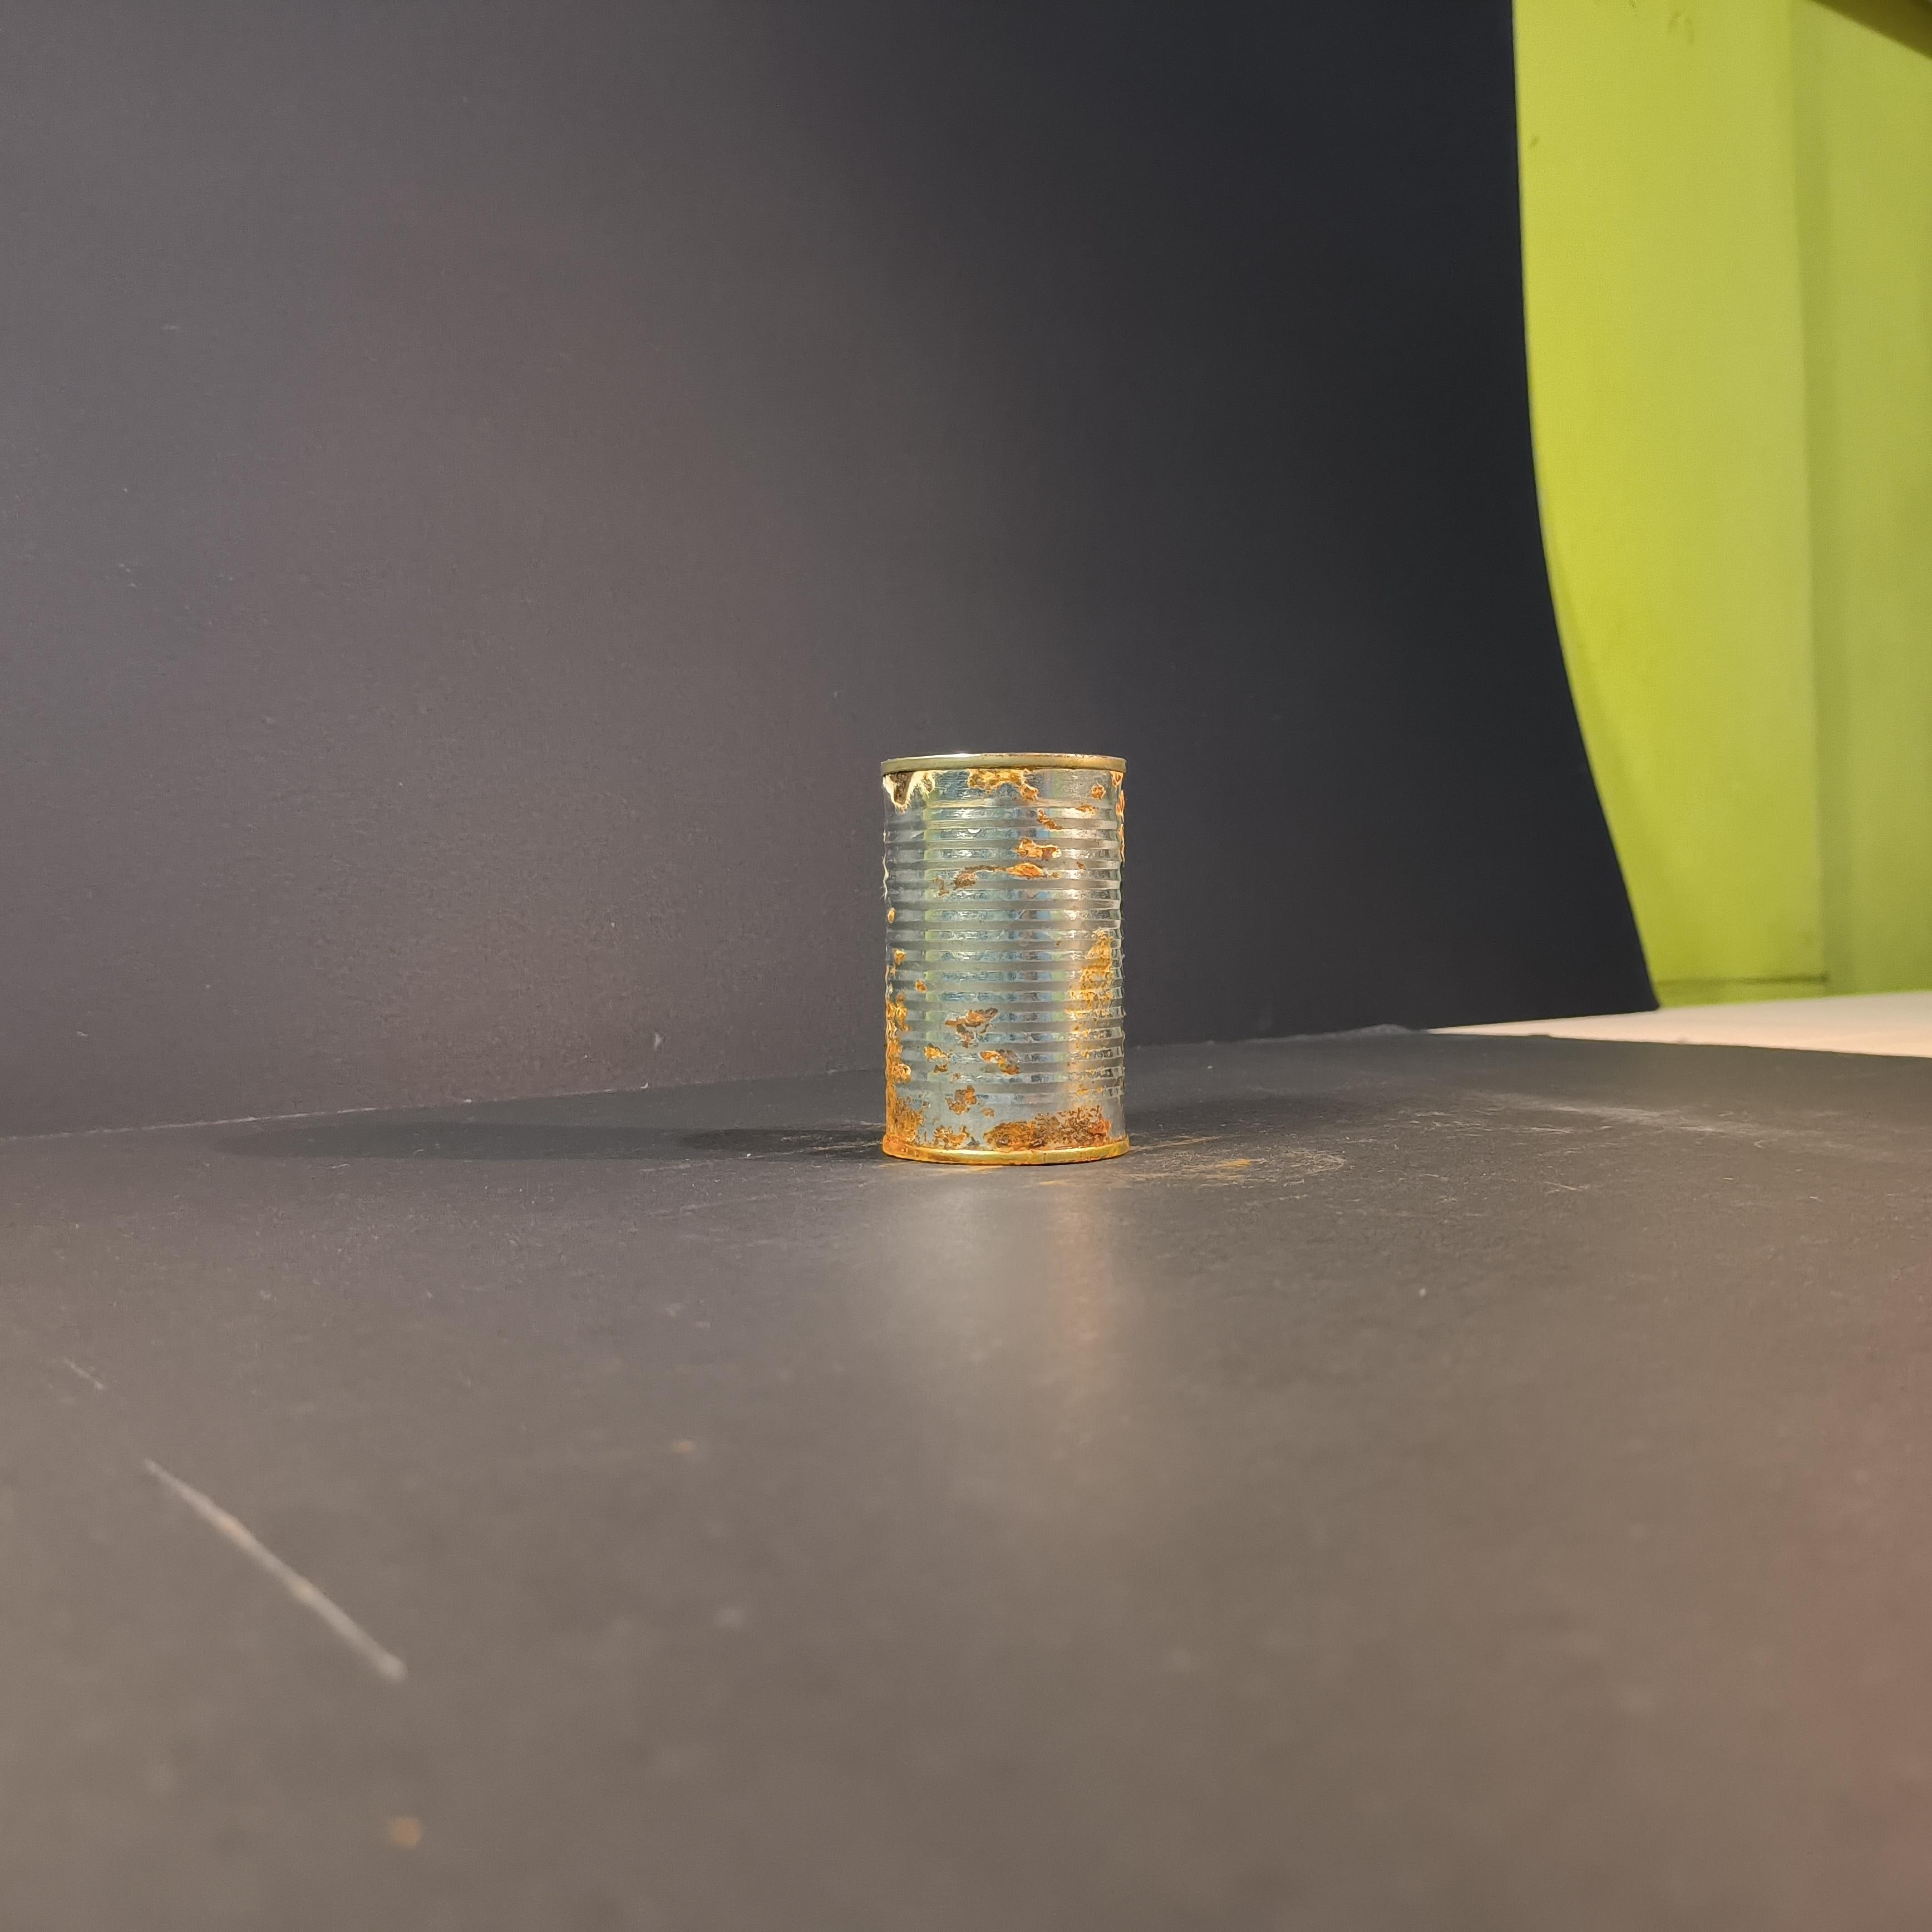Rusted: (851, 732, 1149, 1191)
